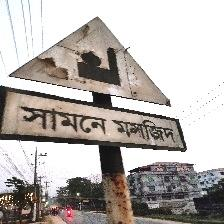Mosque in front: (3, 16, 183, 150)
